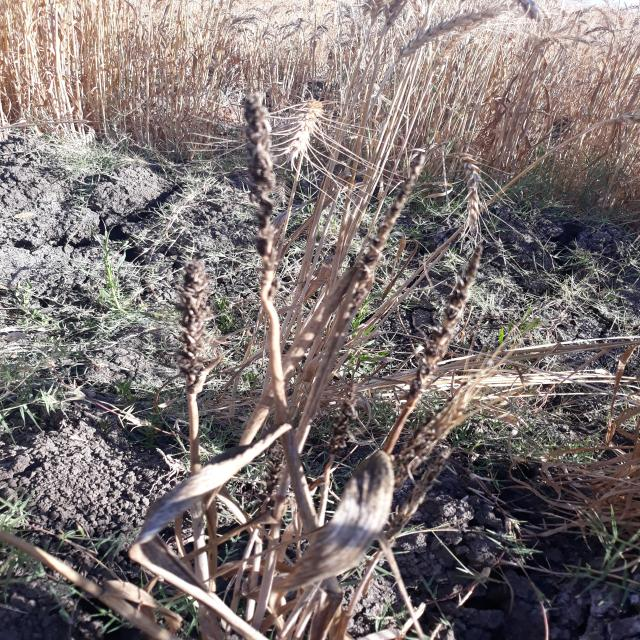loose_charred: (386, 242, 504, 514), (318, 133, 428, 338), (236, 89, 300, 434), (348, 436, 476, 558), (168, 264, 234, 452), (322, 385, 380, 477), (257, 448, 314, 516)
